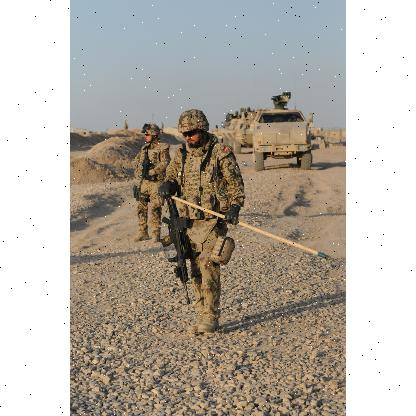gun: (160, 184, 202, 310)
